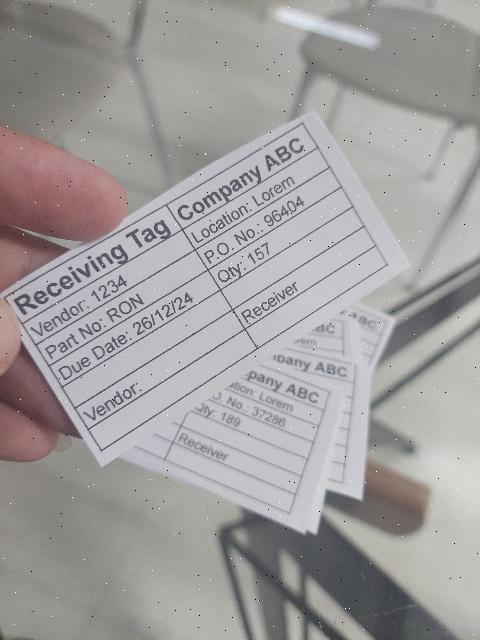PO no: (196, 170, 342, 269)
part no: (37, 253, 203, 366)
qty: (208, 188, 354, 291)
tags: (2, 112, 408, 468)
